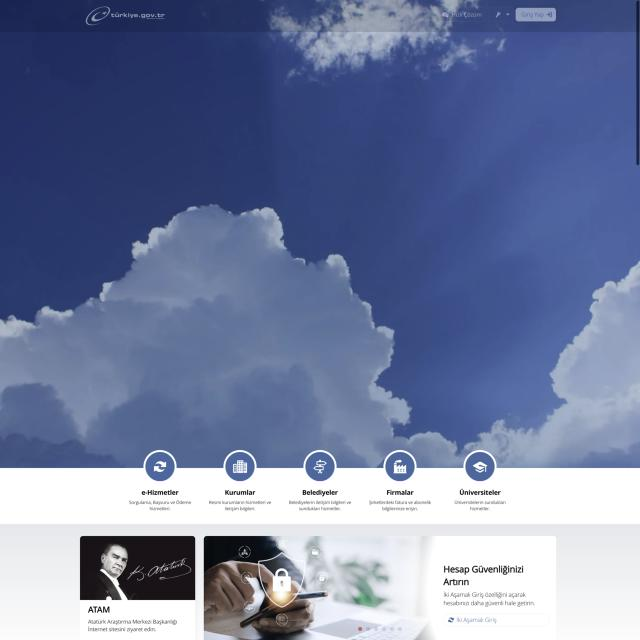logo: (84, 5, 170, 28)
